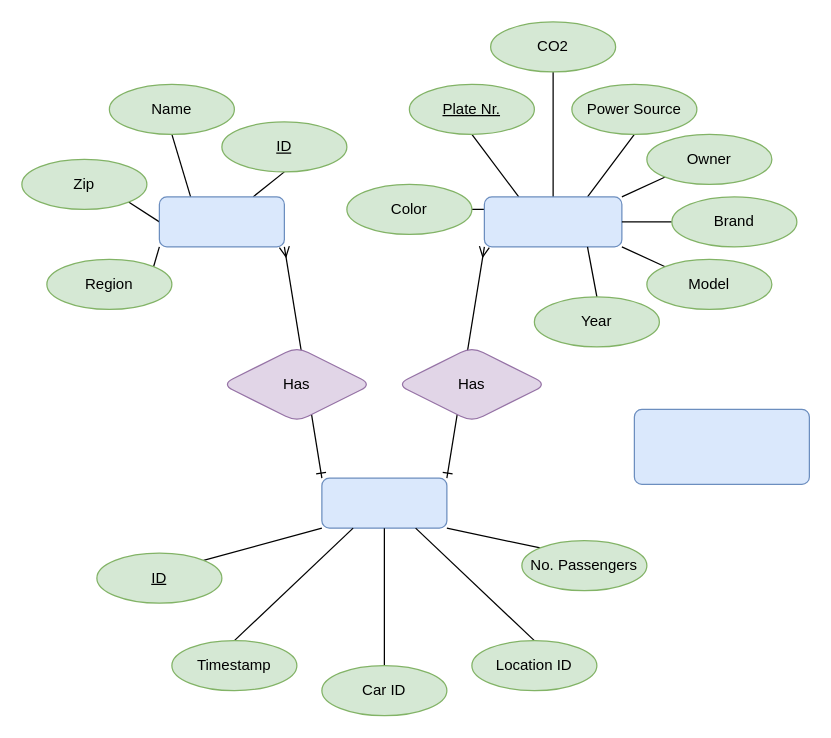
This 831x738 diagram has some shape labels left out. Each missing label, with the centre of its shape:
Cars: pixel 552 221
Instances: pixel 384 502
Location: pixel 221 221
Samgöngustofa: pixel 721 446
